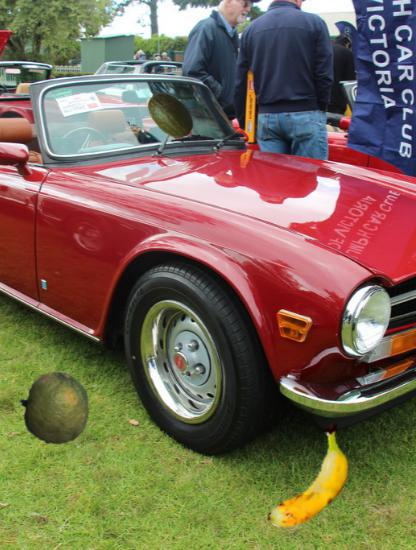Banana: (251, 422, 369, 540)
Limes: (18, 371, 92, 445)
Melon: (144, 88, 198, 142)
